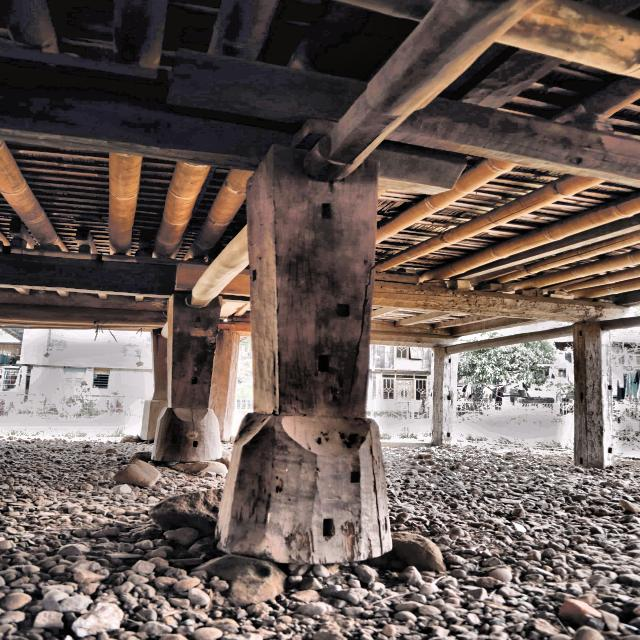column: (216, 147, 393, 564), (151, 294, 222, 462), (573, 321, 614, 469), (207, 331, 240, 441), (141, 329, 168, 440), (430, 348, 458, 443)
